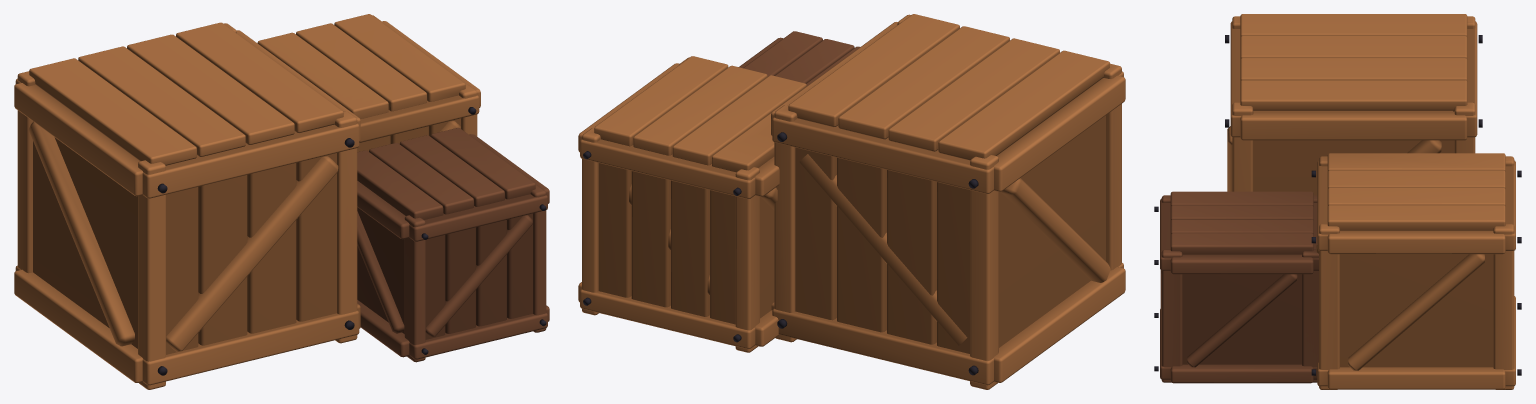
The picture shows the model from 3 angles, left to right: view 1: azimuth 30°, elevation 25°; view 2: azimuth 150°, elevation 25°; view 3: azimuth 270°, elevation 25°; orthographic projection. The views are drawn at different scales.
Parts seen in each view (by area): view 1: root_pal_woodWarm, root_pal_leatherShadow, root_pal_uiDark; view 2: root_pal_woodWarm, root_pal_leatherShadow, root_pal_uiDark; view 3: root_pal_woodWarm, root_pal_leatherShadow, root_pal_uiDark.
Part boxes in pixels (x1,y1,x2,y2): root_pal_woodWarm: [14, 14, 480, 389]; root_pal_leatherShadow: [357, 127, 549, 362]; root_pal_uiDark: [157, 107, 546, 375]; root_pal_woodWarm: [578, 14, 1125, 389]; root_pal_leatherShadow: [739, 31, 859, 85]; root_pal_uiDark: [583, 132, 978, 375]; root_pal_woodWarm: [1227, 14, 1515, 389]; root_pal_leatherShadow: [1160, 191, 1318, 383]; root_pal_uiDark: [1154, 35, 1521, 375].
Bounding box in the file's own units: 1.2 × 0.6674 × 1.05.
